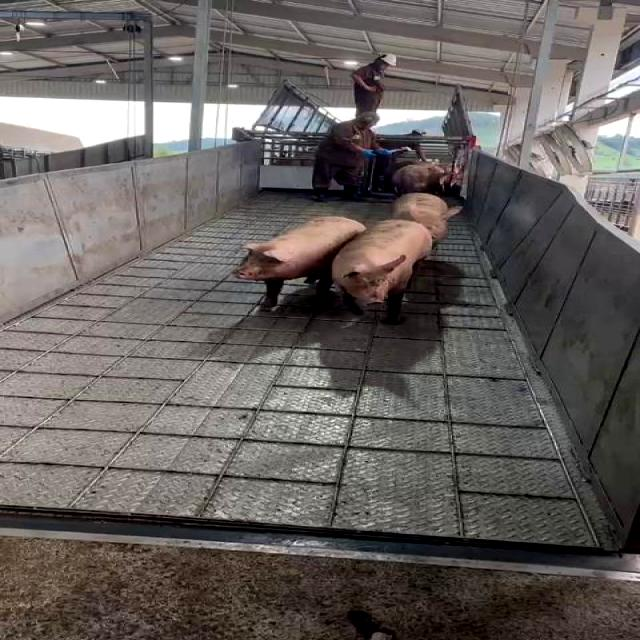pig: (234, 216, 367, 311), (332, 219, 433, 324), (392, 192, 463, 239)
